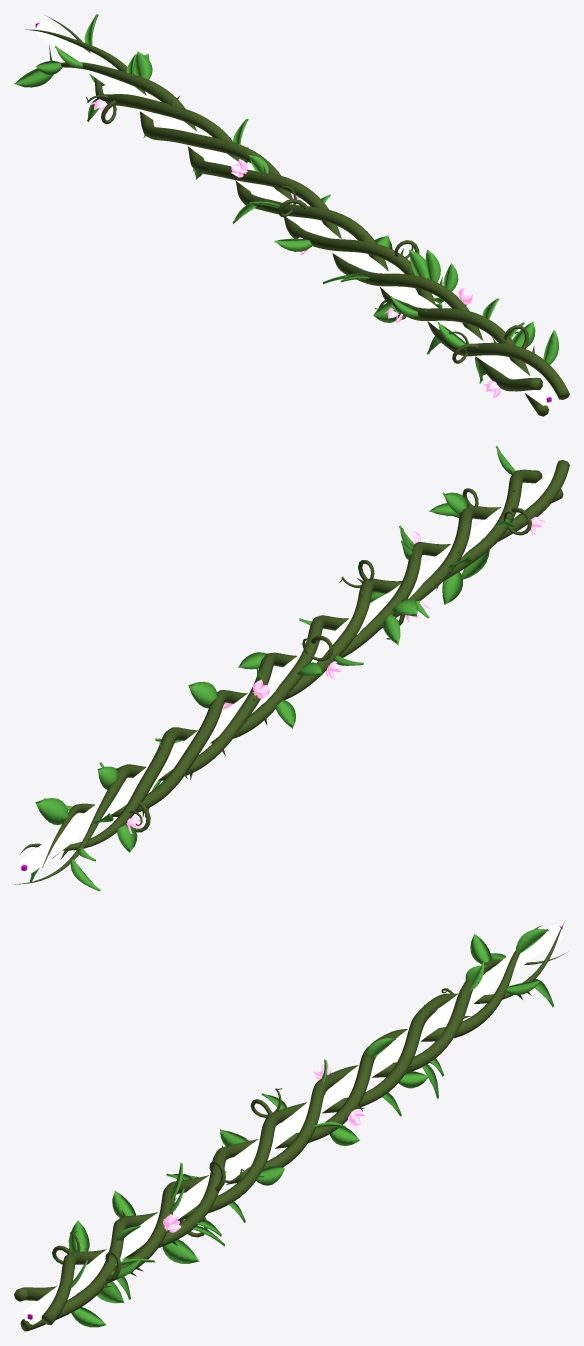
The model's file is NatureBeam.fbx.
3 renders of one model, top to bottom at view 1: azimuth 30°, elevation 25°; view 2: azimuth 150°, elevation 25°; view 3: azimuth 330°, elevation 25°, orthographic. The views are drawn at different scales.
Visible parts, largest first — view 1: Vines, Leaves, Core.002, Blossoms; view 2: Vines, Leaves, Core.002, Blossoms; view 3: Vines, Leaves, Core.002, Blossoms.
Boxes of the visible parts, x1,y1,x2,y2 form: Vines: (24,16,569,416); Leaves: (14,14,558,383); Core.002: (35,21,555,406); Blossoms: (91,99,501,397); Vines: (15,460,569,884); Leaves: (30,445,515,891); Core.002: (20,473,553,873); Blossoms: (126,516,544,833); Vines: (14,922,566,1331); Leaves: (67,928,554,1327); Core.002: (23,925,563,1324); Blossoms: (45,1061,364,1287).
Bounding box in the file's own units: 2.65 × 2.79 × 24.12.
